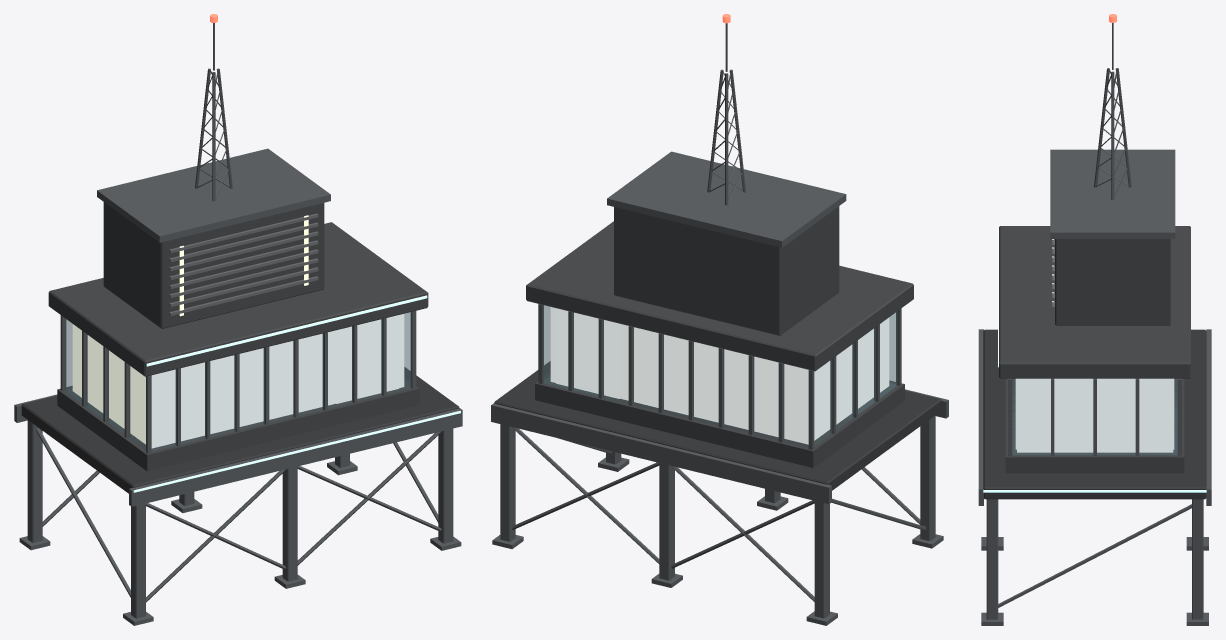
Rendered from crown88.glb.
3 renders of one model, left to right at view 1: azimuth 30°, elevation 25°; view 2: azimuth 150°, elevation 25°; view 3: azimuth 270°, elevation 25°, orthographic. The views are drawn at different scales.
Parts seen in each view (by area): view 1: c88-t1-glass, c88-t1-cap, c88-t1-room, c88-t2, c88-t2-cap, c88-platform, c88-t1-base, c88-edgebeam-f, c88-t1-room-cool, c88-col.003, c88-col.002, c88-col.001 (+16 smaller); view 2: c88-t1-glass, c88-t2, c88-t1-cap, c88-t1-room, c88-t2-cap, c88-platform, c88-t1-base, c88-edgebeam-b, c88-t1-room-cool, c88-col, c88-col.003, c88-col.004 (+5 smaller); view 3: c88-t1-cap, c88-t1-glass, c88-platform, c88-t1-room, c88-t2-cap, c88-t2, c88-t1-base, c88-col.002, c88-col.005, c88-edgebeam-b, c88-edgebeam-f, c88-brace.009 (+5 smaller).
Boxes of the visible parts, x1,y1,x2,y2 form: c88-t1-glass: (65,312,411,451); c88-t1-cap: (48,222,428,376); c88-t1-room: (72,314,404,448); c88-t2: (103,202,324,328); c88-t2-cap: (97,148,330,242); c88-platform: (21,367,459,493); c88-t1-base: (57,378,419,471); c88-edgebeam-f: (129,408,462,506); c88-t1-room-cool: (336,315,398,403); c88-col.003: (27,420,42,542); c88-col.002: (438,428,453,543); c88-col.001: (282,466,297,581); c88-t1-glass: (543,305,897,447); c88-t2: (614,206,839,335); c88-t1-cap: (526,221,913,371); c88-t1-room: (550,307,889,444); c88-t2-cap: (607,151,846,247); c88-platform: (494,361,941,490); c88-t1-base: (535,372,904,467); c88-edgebeam-b: (491,403,831,504); c88-t1-room-cool: (556,308,619,398); c88-col: (920,415,935,540); c88-col.003: (814,501,829,618); c88-col.004: (659,463,674,580); c88-t1-cap: (999,226,1190,378); c88-t1-glass: (1012,379,1177,455); c88-platform: (983,329,1206,499); c88-t1-room: (1017,378,1173,452); c88-t2-cap: (1050,149,1175,238); c88-t2: (1055,239,1170,325); c88-t1-base: (1005,378,1184,473); c88-col.002: (986,499,998,619); c88-col.005: (1192,499,1203,619); c88-edgebeam-b: (1206,329,1211,505); c88-edgebeam-f: (978,329,983,505); c88-brace.009: (998,504,1191,607).
Size of the model in its own units: 8.53 by 12.92 by 5.24.
